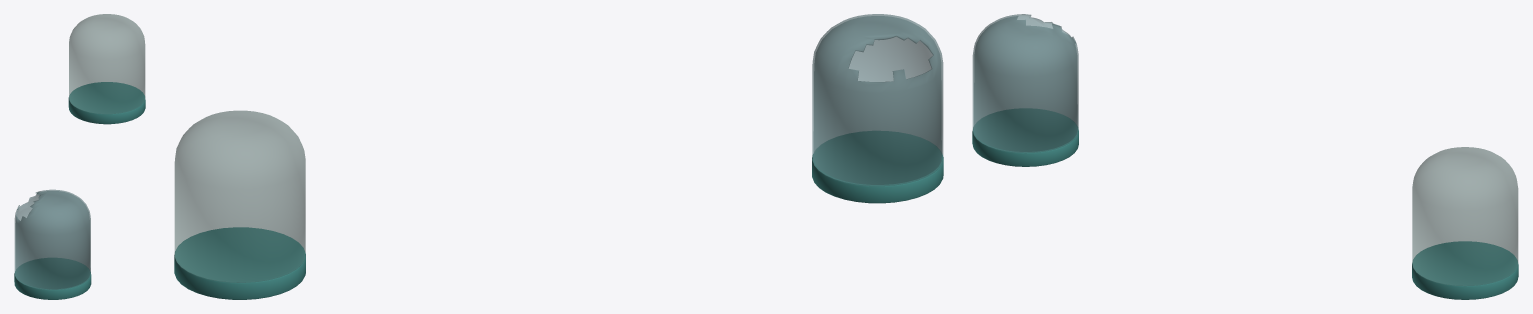
Rendered from CenaDeVidros.fbx.
3 views of the same model, side by side, from view 1: azimuth 30°, elevation 25°; view 2: azimuth 150°, elevation 25°; view 3: azimuth 270°, elevation 25° (orthographic). The views are drawn at different scales.
Visible parts, largest first — view 1: Cylinder.053, Cylinder.054, Cylinder.051, Cylinder.055; view 2: Cylinder.053, Cylinder.054, Cylinder.051, Cylinder.055; view 3: Cylinder.053, Cylinder.054, Cylinder.051, Cylinder.055.
Part boxes in pixels (<box>): Cylinder.053: <box>69,14,145,113</box>; Cylinder.054: <box>14,189,90,289</box>; Cylinder.051: <box>68,82,145,124</box>; Cylinder.055: <box>14,258,91,299</box>; Cylinder.053: <box>174,110,305,282</box>; Cylinder.054: <box>812,14,943,185</box>; Cylinder.051: <box>174,227,305,299</box>; Cylinder.055: <box>812,131,943,203</box>; Cylinder.053: <box>1412,147,1518,285</box>; Cylinder.054: <box>972,14,1078,152</box>; Cylinder.051: <box>1412,241,1518,299</box>; Cylinder.055: <box>972,108,1078,166</box>.
Size of the model in its own units: 285 by 91.78 by 348.
